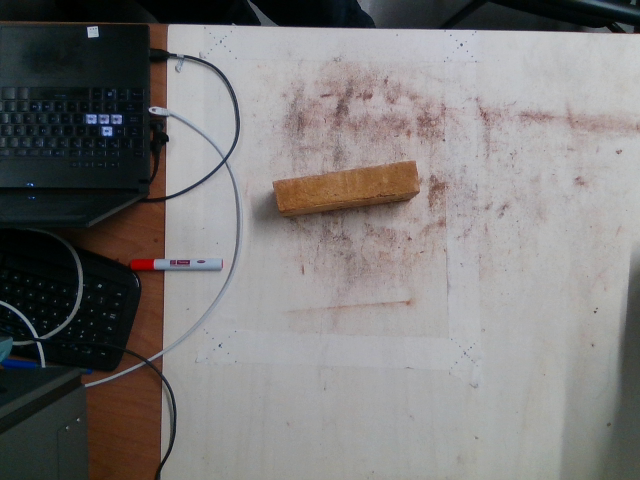brick-side: (276, 162, 419, 209)
